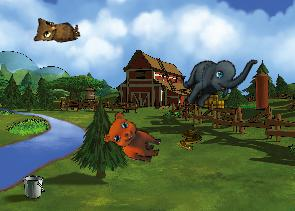bear: (100, 109, 167, 165)
elephant: (176, 35, 258, 123)
owl: (30, 11, 81, 46)
